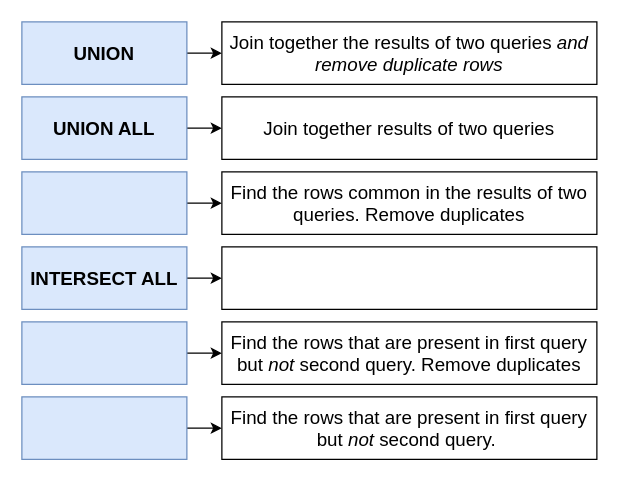
This 619x481 diagram has some shape labels left out. The centre of each missing label's shape, as x and y in pixels:
EXCEPT: [104,352]
EXCEPT ALL: [104,427]
Find the rows common in the results of two queries: [409,277]
INTERSECT: [104,202]
